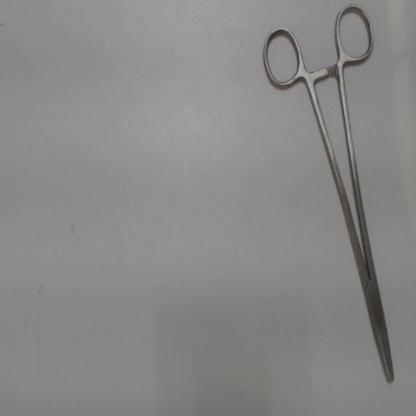8 Mayo Needle Holder: (254, 2, 404, 394)
